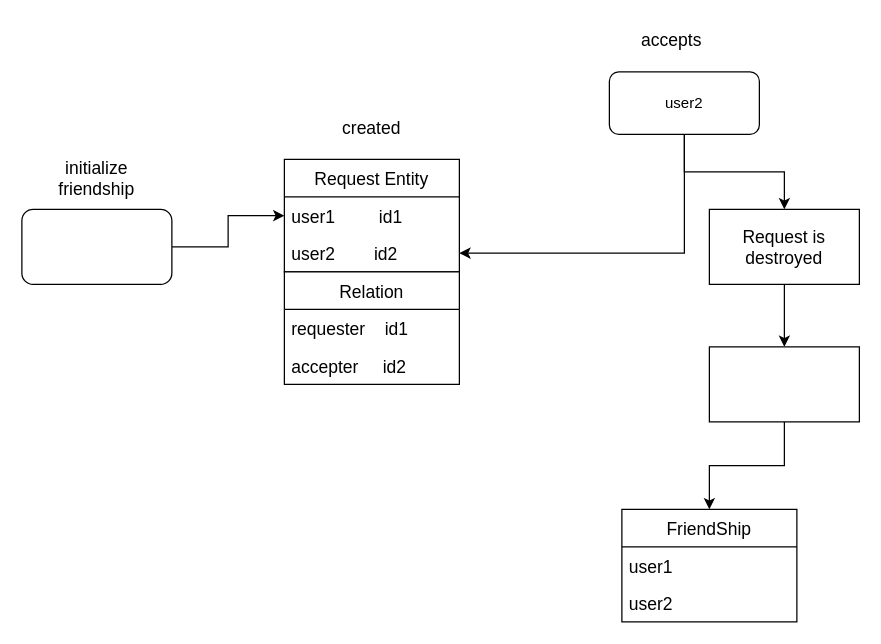
This 881x644 diagram has some shape labels left out. Each missing label, with the centre of its shape:
FriendShip is created instead: the point at 783,384
user1 request: the point at 96,246
